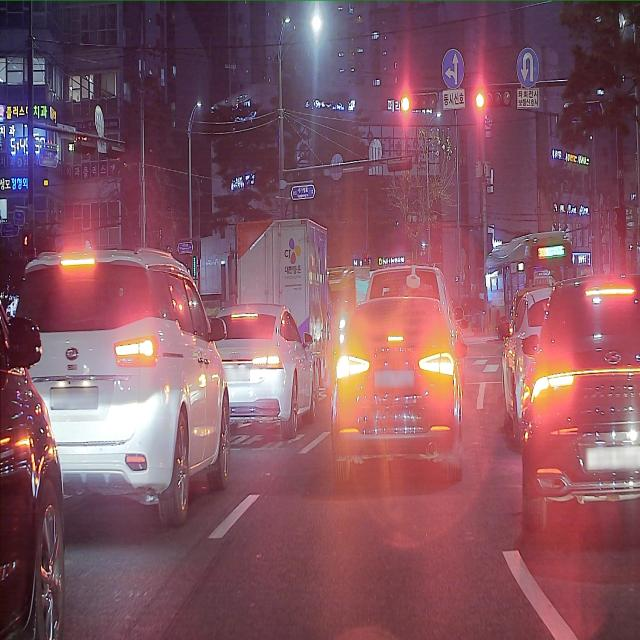Red Light: (400, 92, 411, 113), (476, 90, 484, 110)
